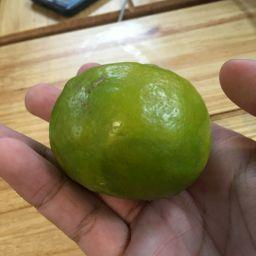Unripe: (51, 61, 209, 195)
